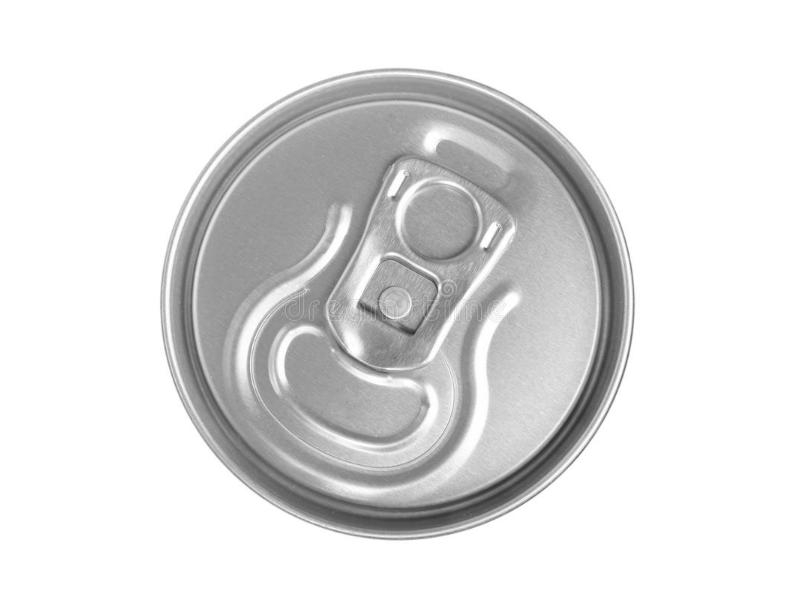can: (162, 65, 636, 541)
